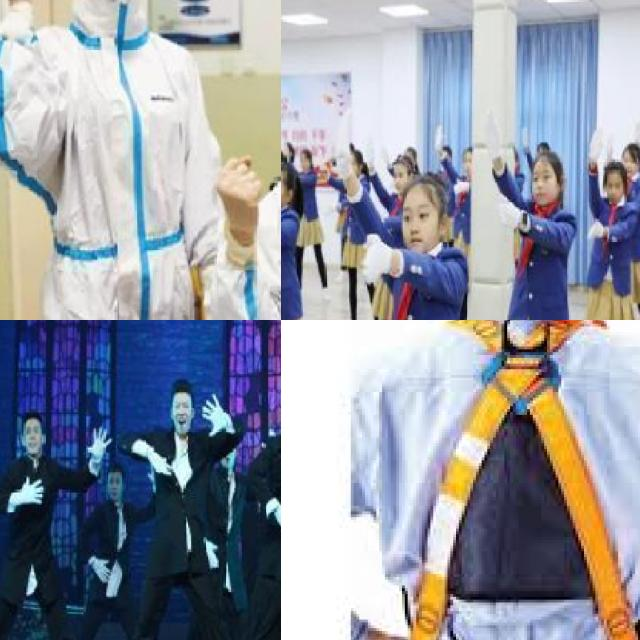Harness: (350, 320, 640, 640)
face_mask: (86, 0, 142, 30)
face_nomask: (400, 201, 440, 250), (529, 163, 561, 204), (170, 394, 196, 443), (22, 423, 43, 459), (107, 479, 128, 508), (603, 176, 624, 198)
hand_glove: (215, 150, 259, 237), (355, 227, 389, 289), (200, 391, 227, 437), (331, 119, 352, 175), (480, 109, 504, 155), (494, 190, 518, 227), (87, 426, 111, 462), (14, 474, 44, 502), (145, 450, 173, 477), (586, 124, 603, 163), (583, 216, 604, 244), (92, 557, 112, 585), (432, 119, 446, 158), (363, 135, 375, 170), (601, 129, 614, 156), (517, 123, 529, 150), (378, 140, 391, 164), (629, 113, 640, 139), (452, 174, 465, 196), (274, 501, 281, 537)
head_nohelmet: (391, 173, 443, 200), (600, 156, 626, 180), (168, 379, 197, 400), (105, 461, 131, 484), (617, 141, 640, 161), (387, 155, 414, 172), (540, 150, 560, 170), (24, 414, 46, 428), (281, 165, 293, 181), (281, 144, 291, 163)
person: (0, 0, 237, 320), (327, 112, 476, 320), (128, 389, 242, 640), (0, 411, 114, 640), (478, 107, 599, 320), (567, 119, 640, 320)
